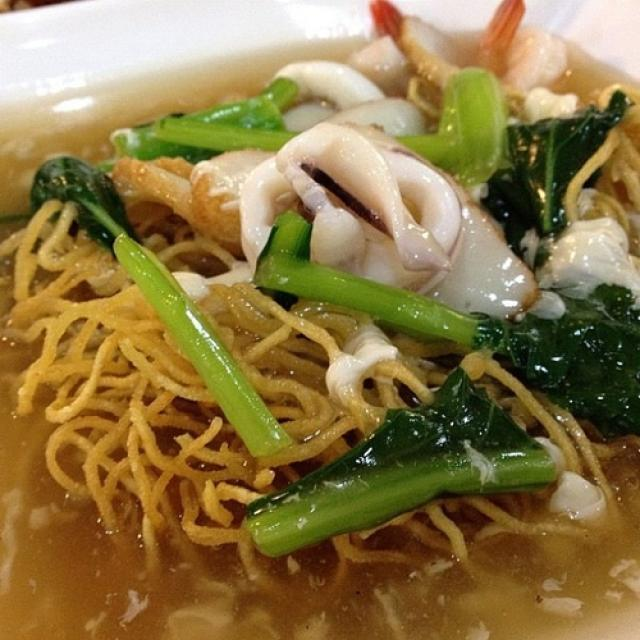面条主食: (22, 39, 612, 596)
